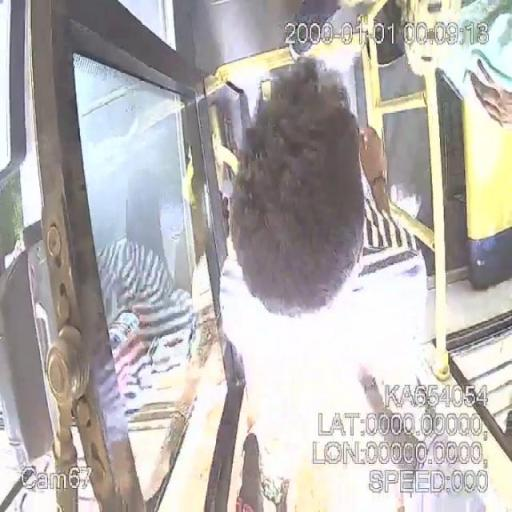persona: (228, 56, 368, 318)
